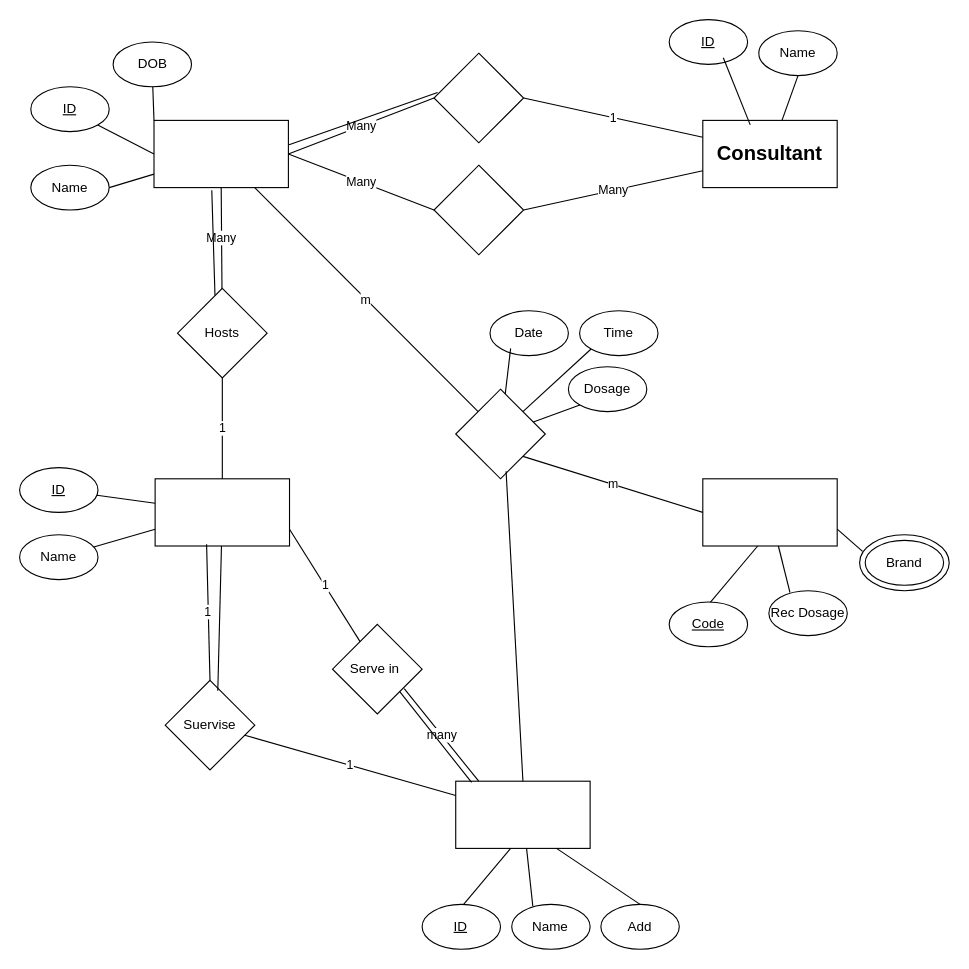
Image size: 969x969. Some labels were removed from this diagram. Each missing label, with the box of its shape:
Assigned to: (433, 52, 524, 143)
drug: (702, 478, 837, 546)
Examine: (433, 164, 524, 255)
Gives: (455, 388, 545, 479)
Nurse: (455, 780, 590, 848)
Patient: (153, 119, 288, 188)
Ward: (154, 478, 290, 546)
